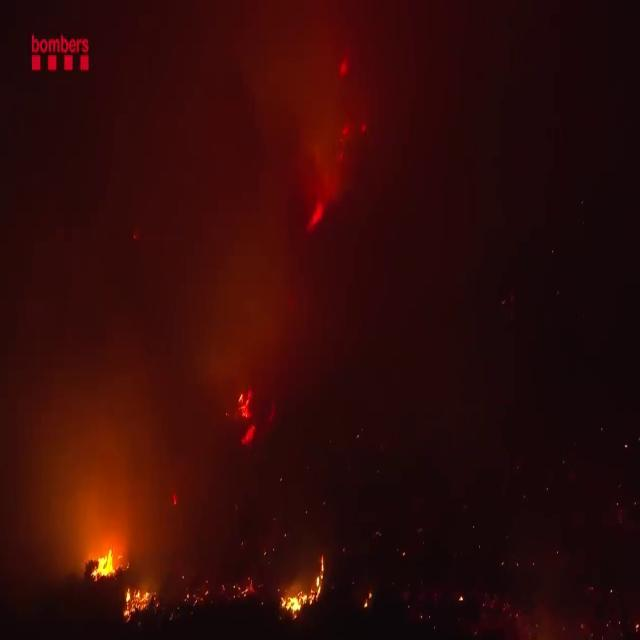Fire: (278, 552, 326, 622), (86, 532, 122, 586), (232, 381, 258, 442), (122, 578, 154, 620)
Smoke: (0, 2, 370, 551)
